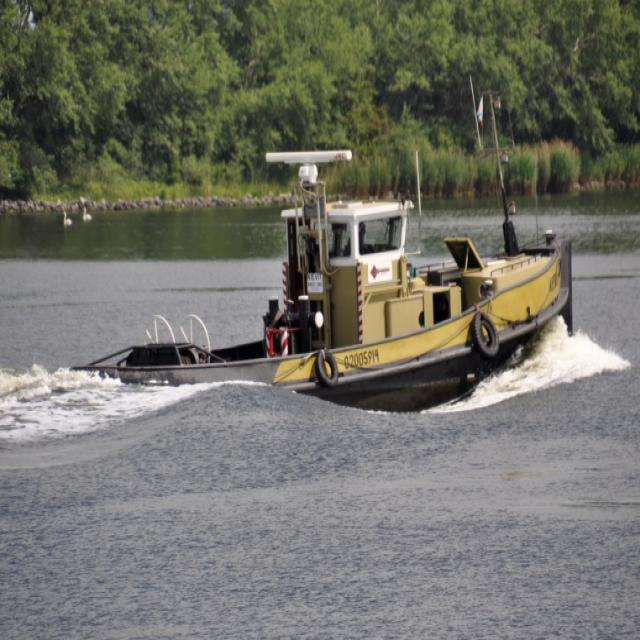tugboat: (68, 140, 582, 439)
